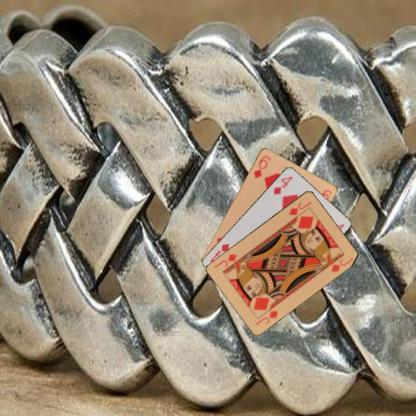4d: (271, 173, 294, 196)
6d: (251, 153, 271, 179)
Jd: (253, 307, 279, 326), (287, 198, 313, 216)
